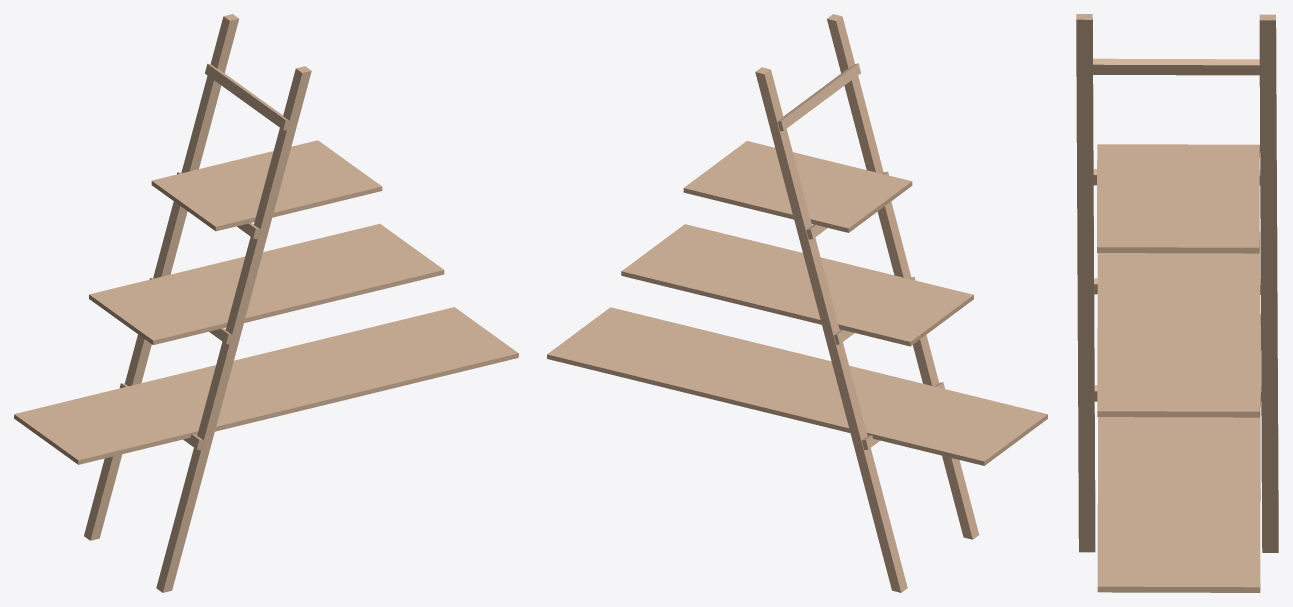
Rendered from furniture3.gltf.
3 renders of one model, left to right at view 1: azimuth 30°, elevation 25°; view 2: azimuth 150°, elevation 25°; view 3: azimuth 270°, elevation 25°, orthographic. The views are drawn at different scales.
Visible parts, largest first — view 1: Cube; view 2: Cube; view 3: Cube.
Part boxes in pixels (box(x1,y1,x2,y2)): Cube: box(14, 14, 518, 592); Cube: box(547, 14, 1047, 592); Cube: box(1076, 14, 1278, 592).
Bounding box in the file's own units: 1.18 × 1.25 × 0.3705.
Materials: 1 (1 with a texture image).
